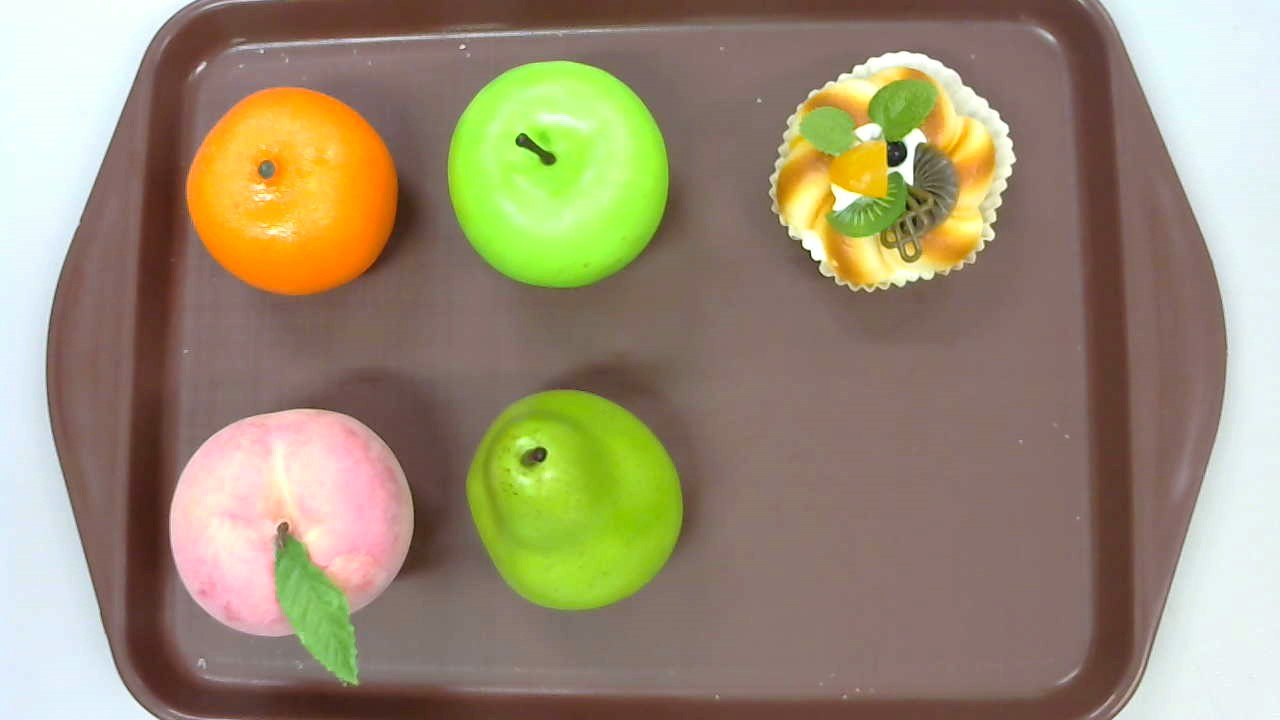fruit tart: (768, 49, 1016, 293)
green apple: (447, 61, 669, 288)
green pear: (465, 389, 684, 610)
orange: (185, 86, 397, 297)
peach: (168, 409, 413, 689)
